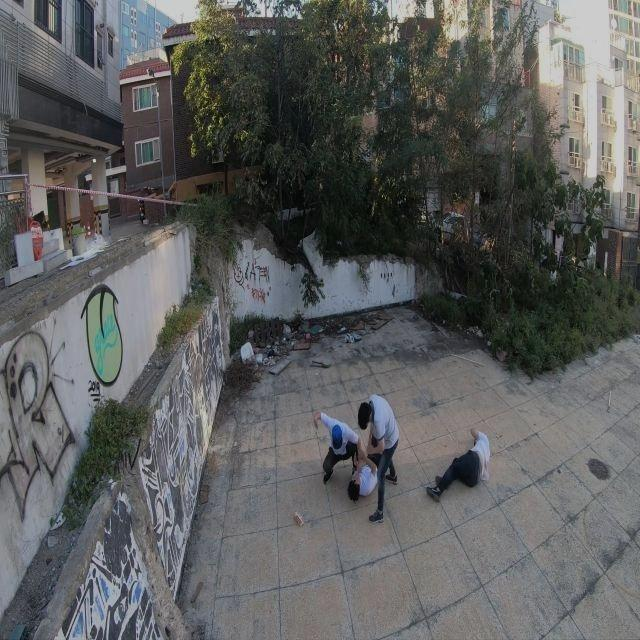fight: (310, 390, 402, 523)
non-fight: (423, 425, 495, 500)
